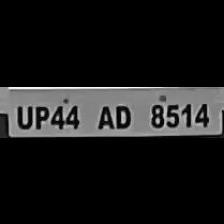1: (174, 100, 190, 127)
4: (60, 101, 82, 128), (190, 100, 210, 125), (49, 101, 67, 128)
5: (164, 100, 184, 127)
8: (145, 100, 165, 127)
A: (92, 101, 118, 128)
D: (108, 101, 134, 128)
P: (32, 101, 48, 128)
U: (12, 102, 32, 127)
